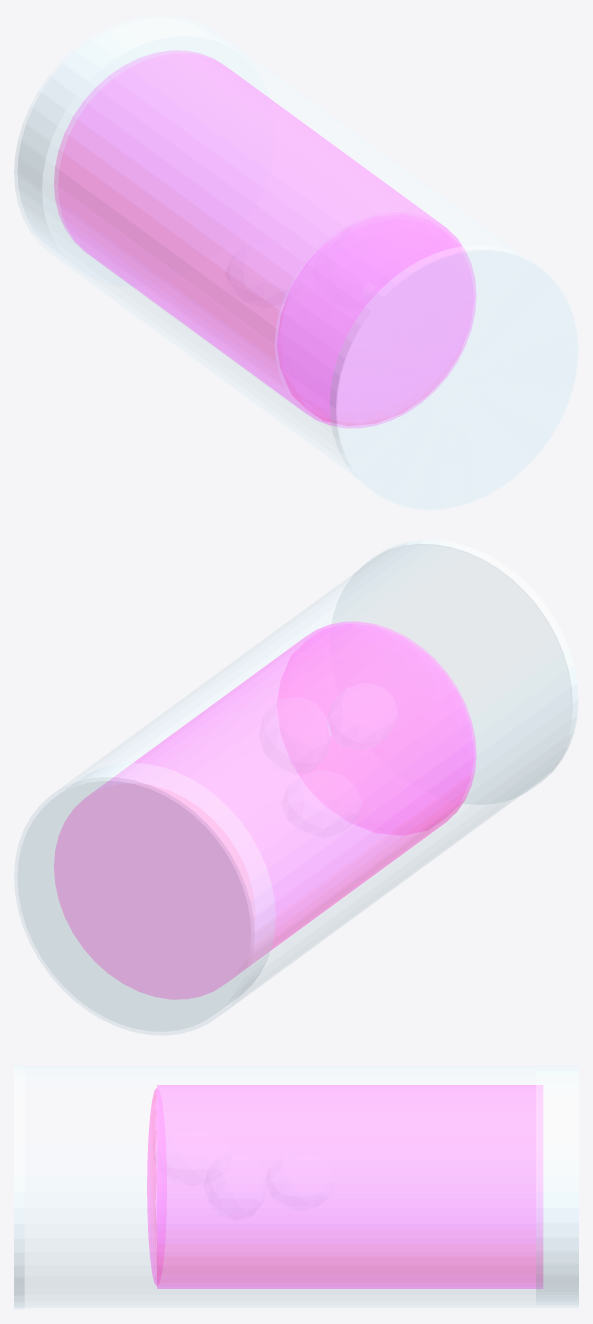
Rendered from synapse_highball.glb.
3 views of the same model, one above another, from view 1: azimuth 30°, elevation 25°; view 2: azimuth 150°, elevation 25°; view 3: azimuth 270°, elevation 25° (orthographic). The views are drawn at different scales.
Visible parts, largest first — view 1: glass_body, liquid, glass_rim, synapse_liquid_meniscus, glass_base; view 2: glass_body, liquid, glass_base, glass_rim, synapse_liquid_meniscus; view 3: glass_body, liquid, glass_base, synapse_liquid_meniscus, glass_rim.
Part boxes in pixels (left/top/right/bottom): glass_body: left=14, top=15, right=576, bottom=508; liquid: left=54, top=50, right=476, bottom=427; glass_rim: left=330, top=245, right=578, bottom=510; synapse_liquid_meniscus: left=276, top=214, right=474, bottom=425; glass_base: left=18, top=18, right=269, bottom=286; glass_body: left=14, top=541, right=576, bottom=1034; liquid: left=54, top=621, right=476, bottom=999; glass_base: left=18, top=763, right=275, bottom=1031; glass_rim: left=332, top=539, right=578, bottom=804; synapse_liquid_meniscus: left=278, top=624, right=473, bottom=835; glass_body: left=14, top=1066, right=578, bottom=1307; liquid: left=157, top=1085, right=542, bottom=1288; glass_base: left=536, top=1069, right=578, bottom=1304; synapse_liquid_meniscus: left=147, top=1088, right=166, bottom=1285; glass_rim: left=14, top=1064, right=24, bottom=1309.
Size of the model in its own units: 0.6868 by 0.6868 by 1.58.
